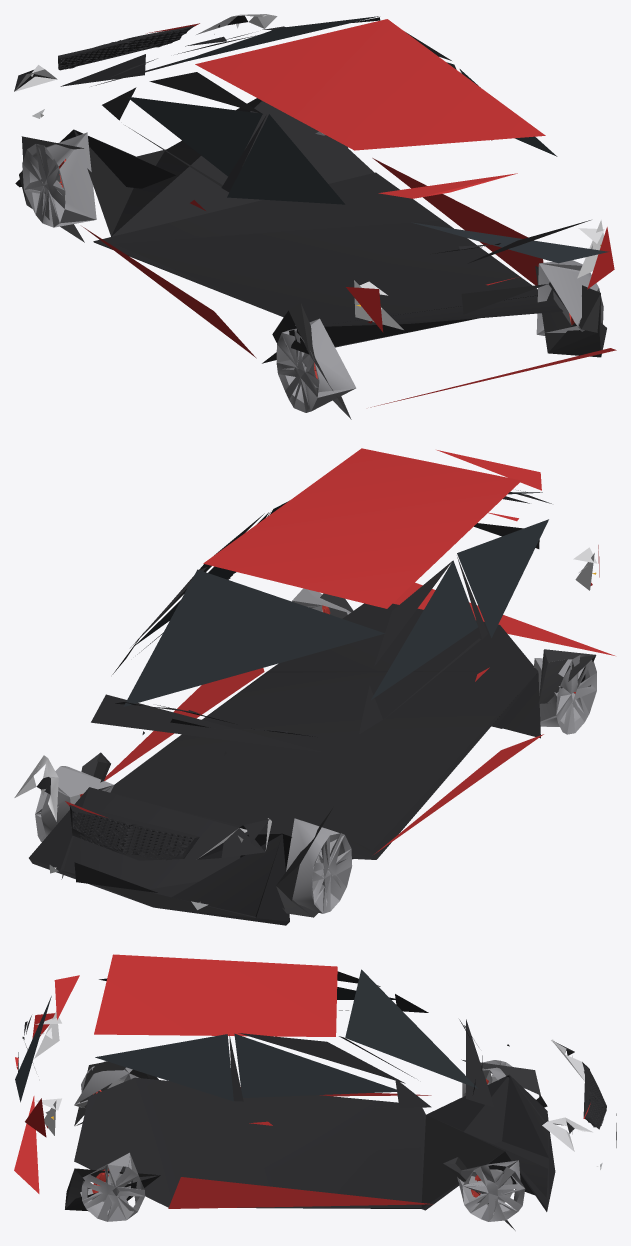
The model's file is civic_lo.glb.
3 renders of one model, top to bottom at view 1: azimuth 30°, elevation 25°; view 2: azimuth 150°, elevation 25°; view 3: azimuth 270°, elevation 25°, orthographic. The views are drawn at different scales.
Parts seen in each view (by area): view 1: body, wheel_fl, wheel_rl, wheel_rr; view 2: body, wheel_fl, wheel_rl, wheel_fr, wheel_rr; view 3: body, wheel_rr, wheel_fr, wheel_rl, wheel_fl, caliper_rr.
Boxes of the visible parts, bbox=[...] form: body: bbox=[14, 14, 616, 407]; wheel_fl: bbox=[19, 132, 96, 242]; wheel_rl: bbox=[272, 302, 356, 419]; wheel_rr: bbox=[535, 260, 606, 357]; body: bbox=[14, 448, 614, 925]; wheel_fl: bbox=[276, 808, 352, 917]; wheel_rl: bbox=[533, 649, 596, 734]; wheel_fr: bbox=[35, 752, 113, 879]; wheel_rr: bbox=[292, 588, 353, 618]; body: bbox=[14, 954, 616, 1211]; wheel_rr: bbox=[65, 1152, 160, 1221]; wheel_fr: bbox=[443, 1157, 525, 1230]; wheel_rl: bbox=[74, 1061, 158, 1125]; wheel_fl: bbox=[461, 1059, 547, 1107]; caliper_rr: bbox=[92, 1077, 513, 1204].
Size of the model in its own units: 1.71 by 1.5 by 4.07.
